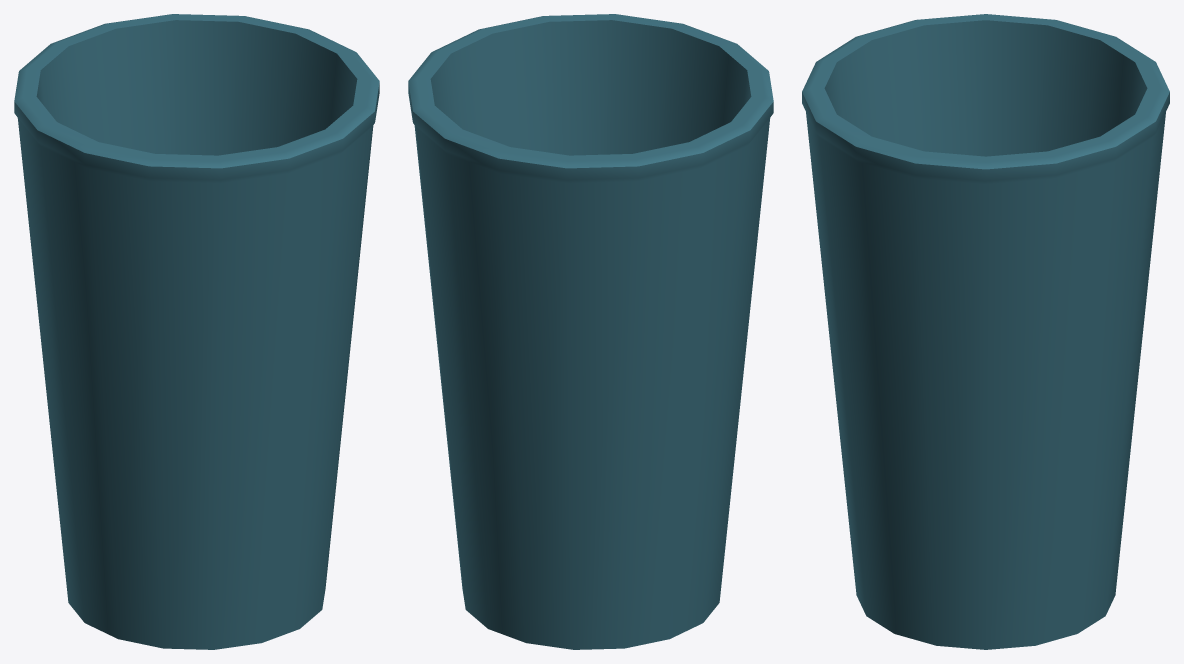
Rendered from SM_SmallTrashkit_Cup_002.fbx.
3 views of the same model, side by side, from view 1: azimuth 30°, elevation 25°; view 2: azimuth 150°, elevation 25°; view 3: azimuth 270°, elevation 25° (orthographic).
Visible parts, largest first — view 1: SM_SmallTrashkit_Cup_002; view 2: SM_SmallTrashkit_Cup_002; view 3: SM_SmallTrashkit_Cup_002.
Part boxes in pixels (x1,y1,x2,y2): SM_SmallTrashkit_Cup_002: [14, 14, 379, 649]; SM_SmallTrashkit_Cup_002: [408, 14, 773, 649]; SM_SmallTrashkit_Cup_002: [802, 14, 1169, 649].
Bounding box in the file's own units: 11.36 × 17.27 × 11.36.
